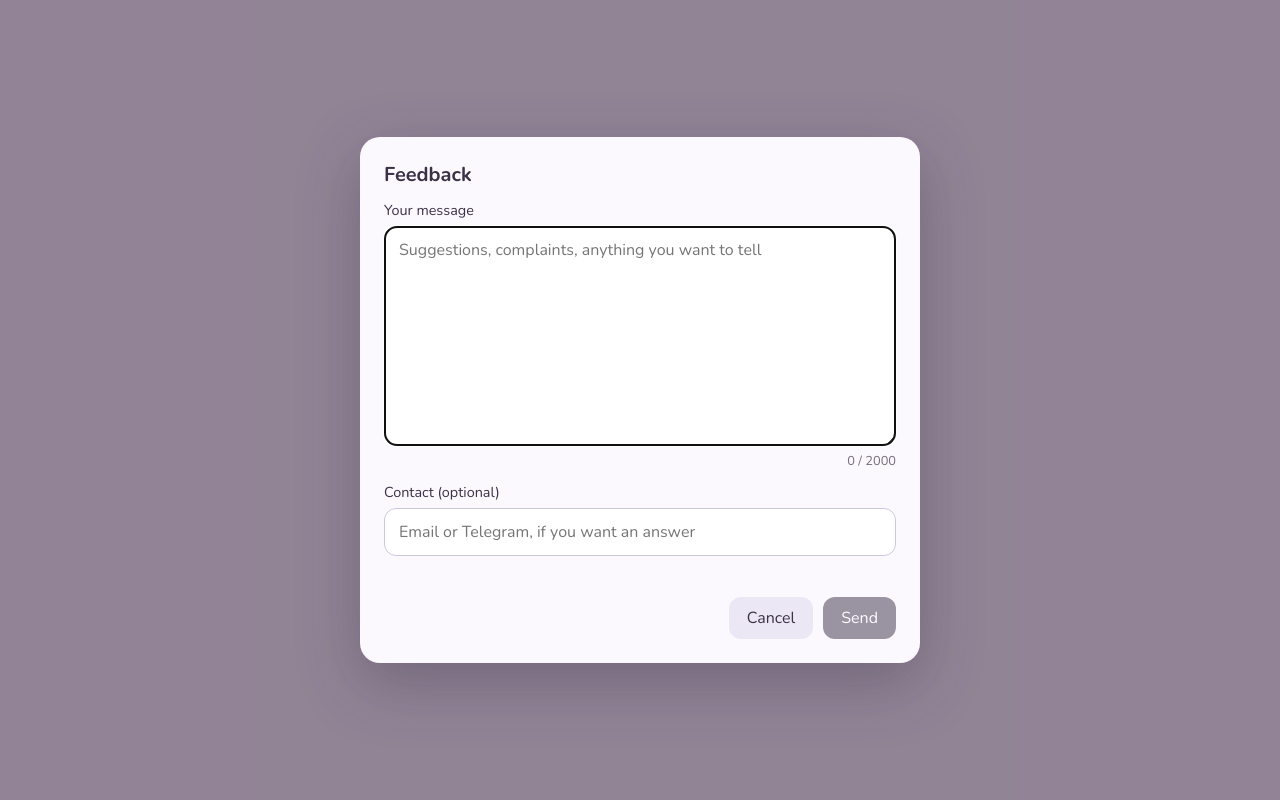
FeedbackDialog › shows an error and keeps the text when sending fails
Type "my long text" into the text box labelled "Your message" at (640, 336), box [384,226,896,446]
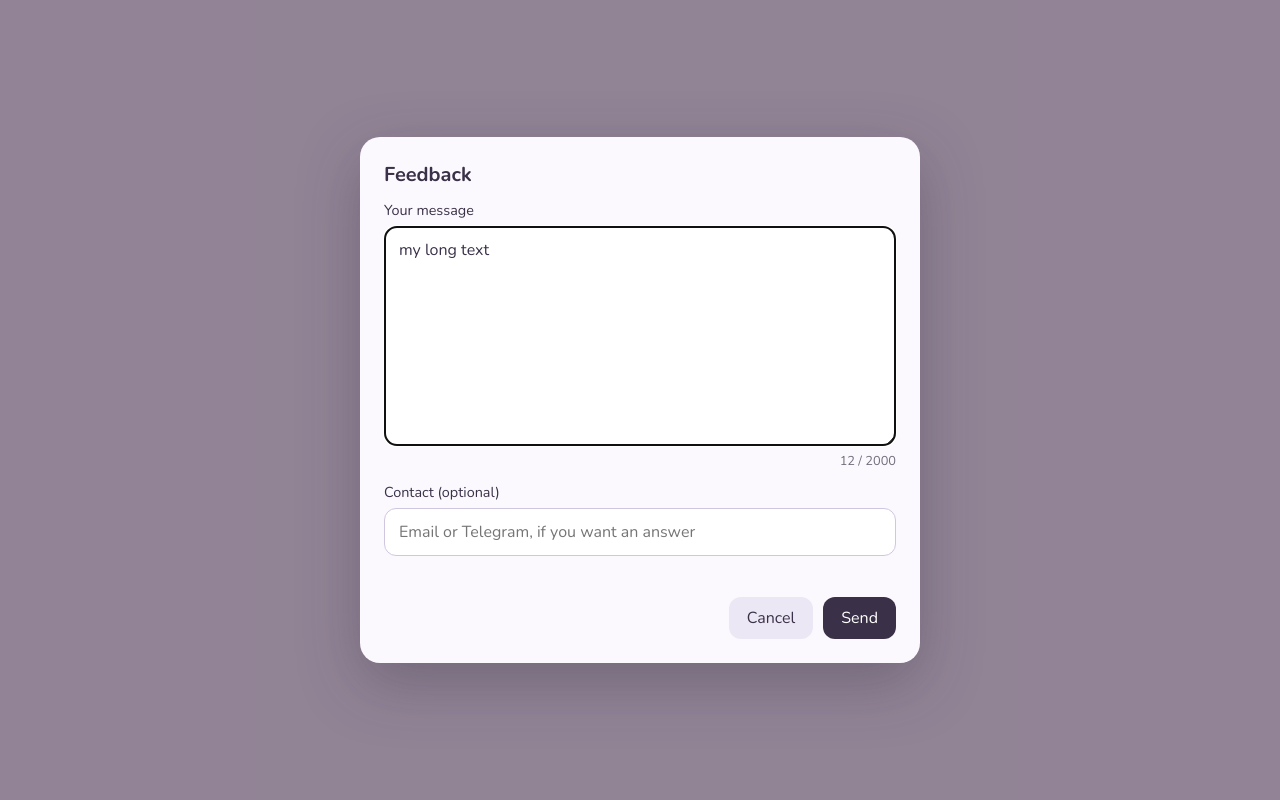
Click the button "Send" at (860, 618), box [823,597,896,639]
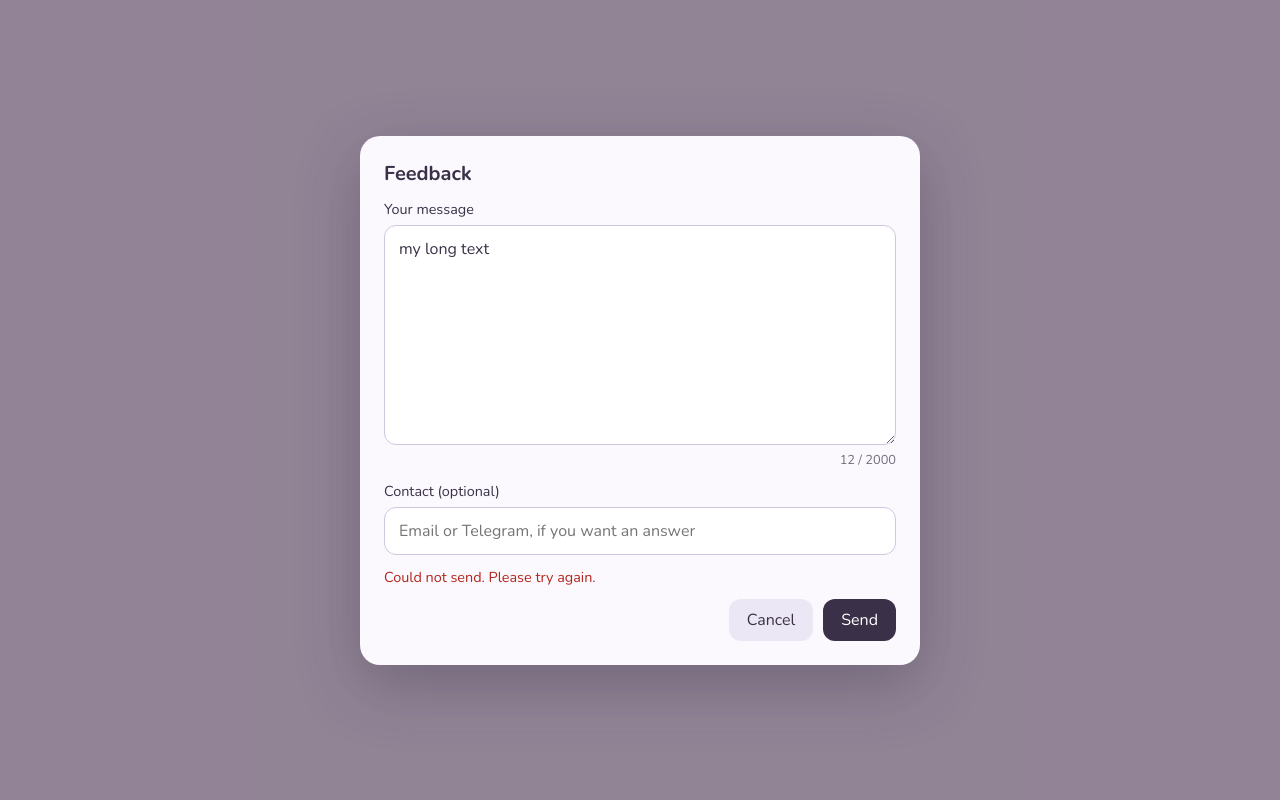
Expected: the message reads "Could not send. Please try again.", [384,566,596,586]
